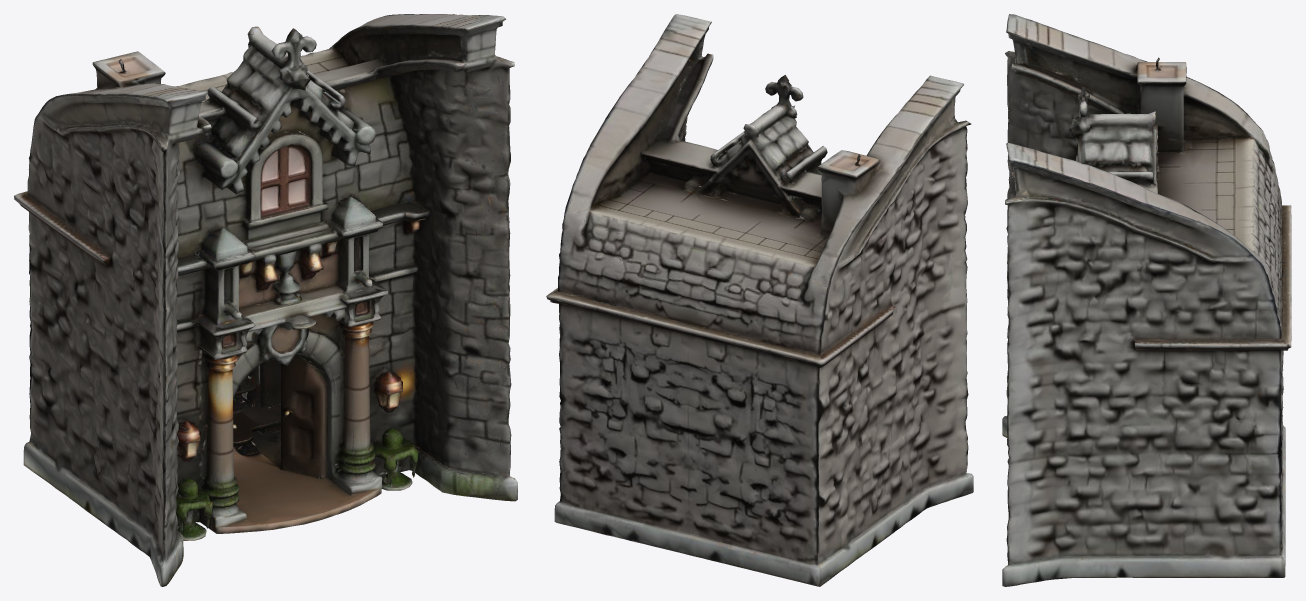
Rendered from Dwarven Building #8_final.glb.
The picture shows the model from 3 angles, left to right: view 1: azimuth 30°, elevation 25°; view 2: azimuth 150°, elevation 25°; view 3: azimuth 270°, elevation 25°; orthographic projection. The views are drawn at different scales.
Bounding box in the file's own units: 1.48 × 1.91 × 1.18.
1 material, 1 textured.
